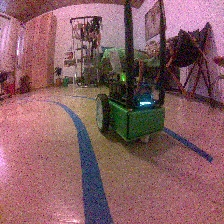rob: (94, 55, 165, 143)
